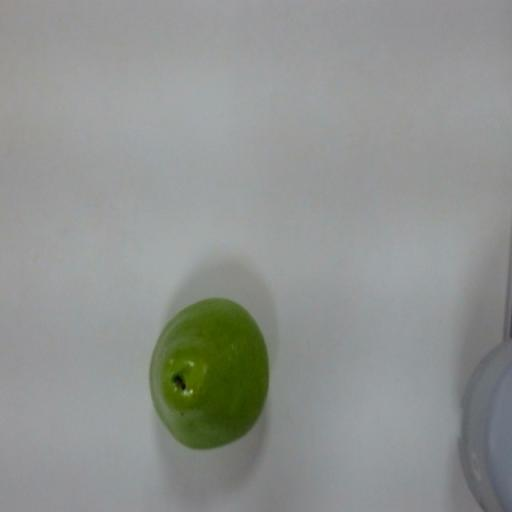Unripe: (141, 281, 279, 460)
